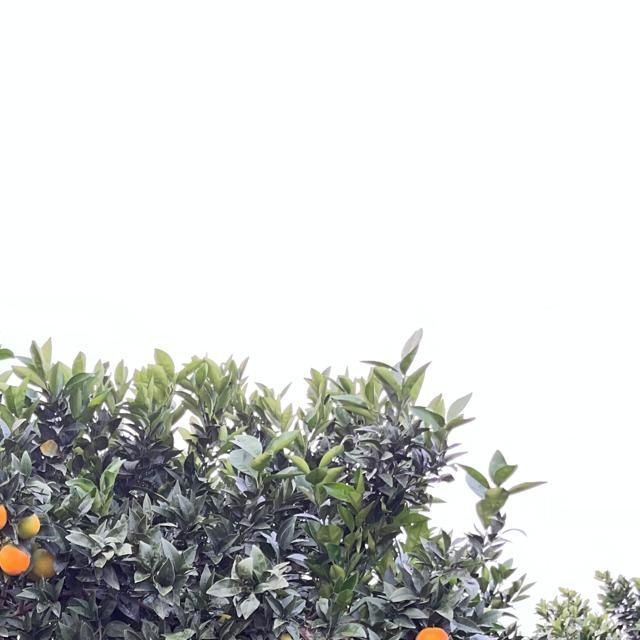orange: (0, 542, 31, 574), (32, 547, 56, 575), (18, 511, 42, 537), (415, 627, 447, 640), (268, 630, 296, 640), (0, 498, 8, 532), (38, 635, 64, 640), (0, 540, 3, 572)
